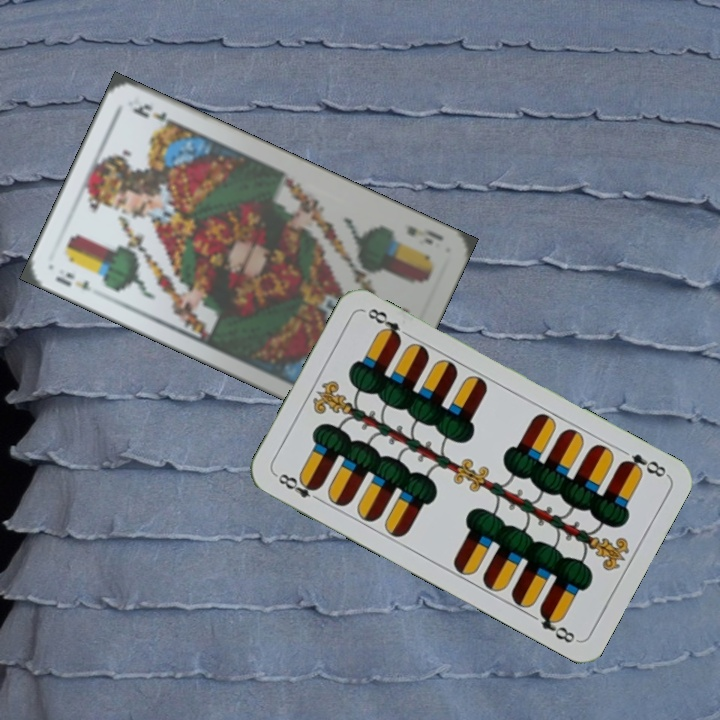E8: (271, 469, 325, 505), (616, 449, 669, 480)
EK: (52, 268, 103, 300), (402, 222, 446, 248)
